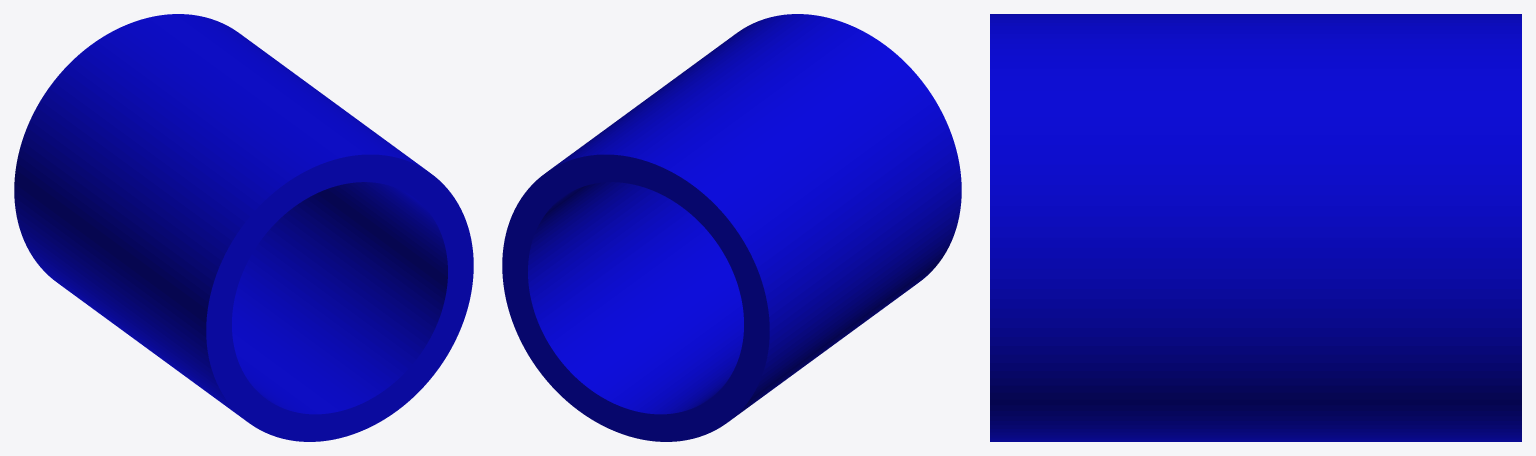
Rendered from Solenoid.gltf.
The picture shows the model from 3 angles, left to right: view 1: azimuth 30°, elevation 25°; view 2: azimuth 150°, elevation 25°; view 3: azimuth 270°, elevation 25°; orthographic projection. The views are drawn at different scales.
Visible parts, largest first — view 1: Solenoid; view 2: Solenoid; view 3: Solenoid.
Part boxes in pixels (x1=…): Solenoid: x1=14, y1=14, x2=473, y2=441; Solenoid: x1=502, y1=14, x2=961, y2=441; Solenoid: x1=990, y1=14, x2=1521, y2=441.
Size of the model in its own units: 3713 by 3713 by 4614.
